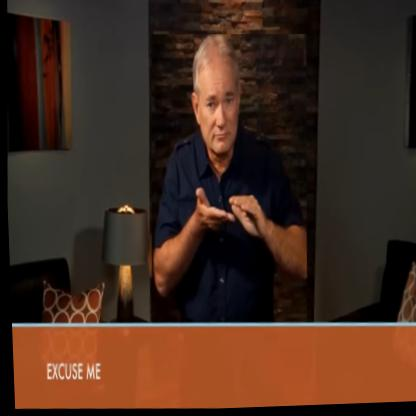ExcuseMe: (141, 31, 314, 339)
